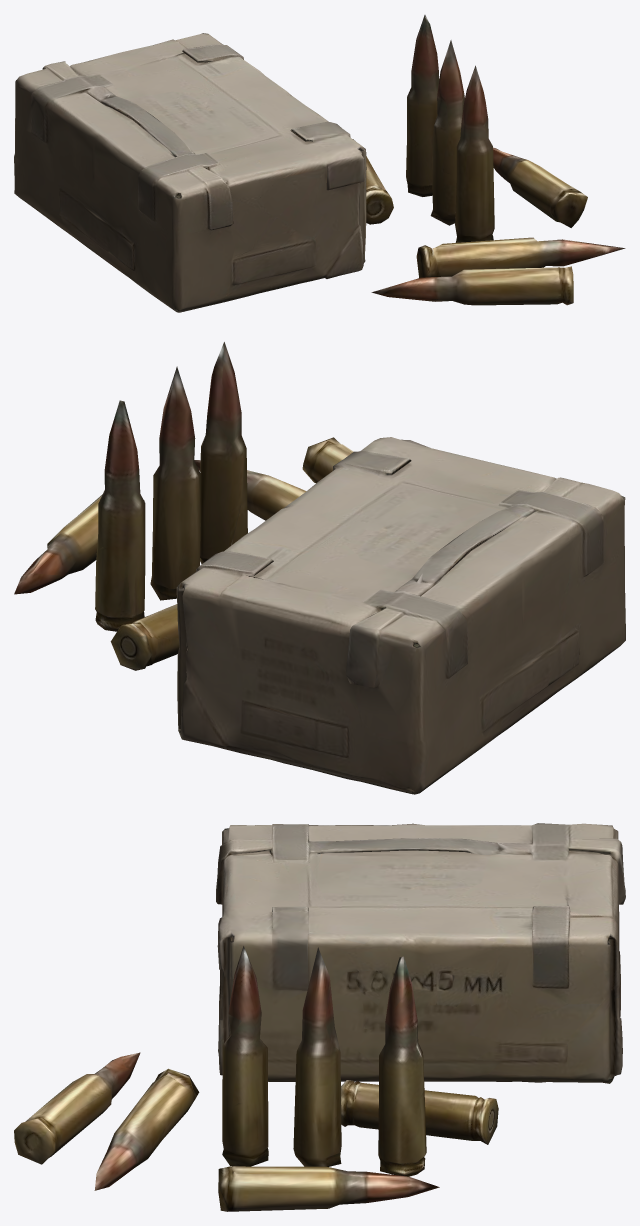
3 views of the same model, one above another, from view 1: azimuth 30°, elevation 25°; view 2: azimuth 150°, elevation 25°; view 3: azimuth 270°, elevation 25° (orthographic). The views are drawn at different scales.
Parts seen in each view (by area): view 1: tripo_node_0cd88614-f53f-4049-af57-86dd5bcfcc0d; view 2: tripo_node_0cd88614-f53f-4049-af57-86dd5bcfcc0d; view 3: tripo_node_0cd88614-f53f-4049-af57-86dd5bcfcc0d.
Boxes of the visible parts, x1,y1,x2,y2 form: tripo_node_0cd88614-f53f-4049-af57-86dd5bcfcc0d: [14, 15, 625, 312]; tripo_node_0cd88614-f53f-4049-af57-86dd5bcfcc0d: [14, 342, 625, 794]; tripo_node_0cd88614-f53f-4049-af57-86dd5bcfcc0d: [14, 823, 625, 1211].
Size of the model in its own units: 0.9439 by 0.3901 by 1.
1 material, 1 textured.
